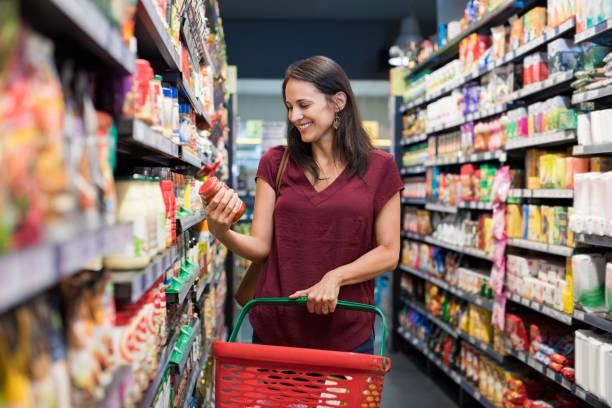Person: (205, 56, 402, 352)
article: (199, 176, 230, 205), (505, 315, 529, 350), (233, 200, 245, 222)
cage: (212, 343, 390, 407)
